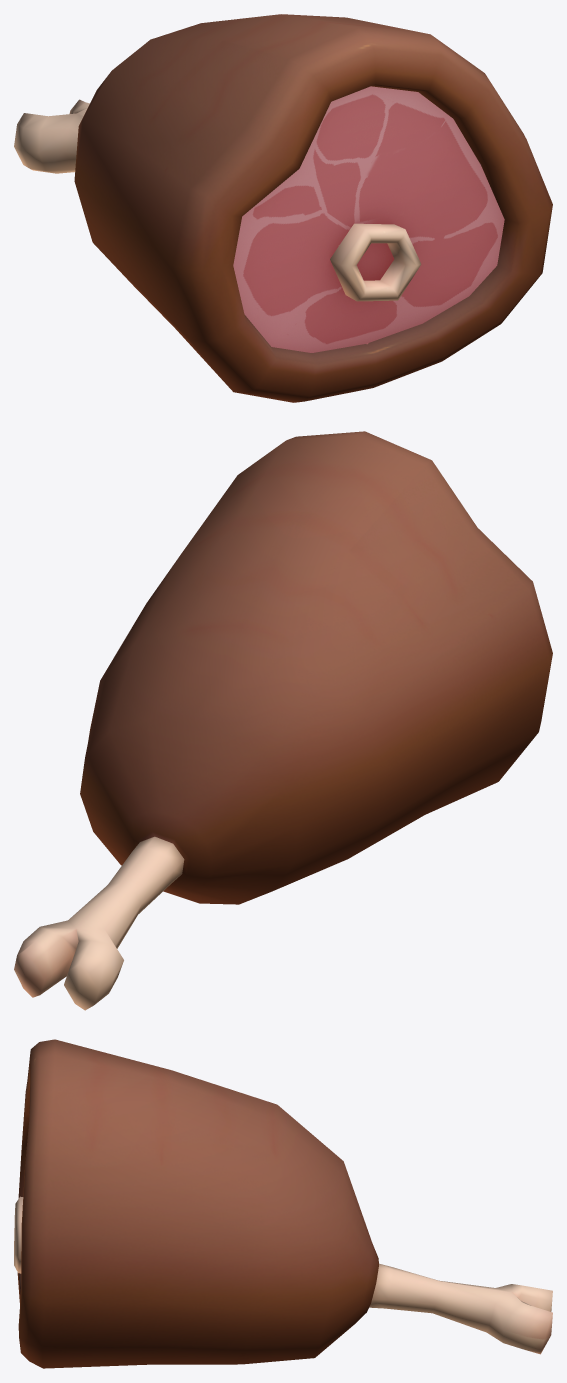
File: Meat.fbx
3 views of the same model, one above another, from view 1: azimuth 30°, elevation 25°; view 2: azimuth 150°, elevation 25°; view 3: azimuth 270°, elevation 25° (orthographic). The views are drawn at different scales.
Parts seen in each view (by area): view 1: Meal; view 2: Meal; view 3: Meal.
Part boxes in pixels (<box>): Meal: <box>14,14,552,402</box>; Meal: <box>14,431,552,1010</box>; Meal: <box>14,1039,552,1368</box>.
Bounding box in the file's own units: 39.83 × 36.16 × 61.02.
Materials: 1 (1 with a texture image).
